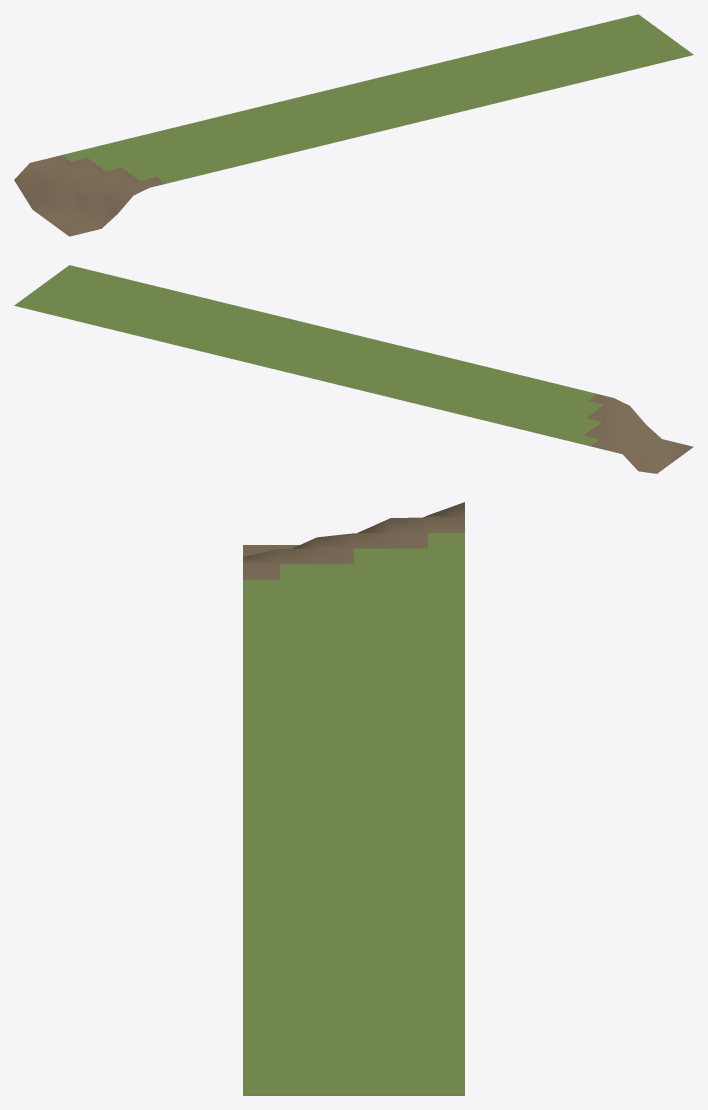
File: region_2_4.glb
3 views of the same model, one above another, from view 1: azimuth 30°, elevation 25°; view 2: azimuth 150°, elevation 25°; view 3: azimuth 270°, elevation 25° (orthographic). The views are drawn at different scales.
Parts seen in each view (by area): view 1: OD_Meadow.027, OD_Ground.027; view 2: OD_Meadow.027, OD_Ground.027; view 3: OD_Meadow.027, OD_Ground.027.
Boxes of the visible parts, <box> form: OD_Meadow.027: <box>62,14,693,183</box>; OD_Ground.027: <box>14,55,690,236</box>; OD_Meadow.027: <box>14,265,603,446</box>; OD_Ground.027: <box>21,307,693,473</box>; OD_Meadow.027: <box>243,533,464,1095</box>; OD_Ground.027: <box>243,502,464,1095</box>.
Size of the model in its own units: 32.35 by 1.46 by 4.98.
